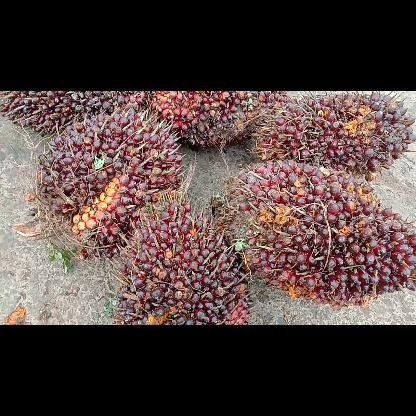Kurang masak: (209, 157, 415, 313), (32, 102, 186, 262), (108, 195, 256, 323), (254, 90, 416, 184), (140, 91, 288, 153), (0, 91, 143, 142)
